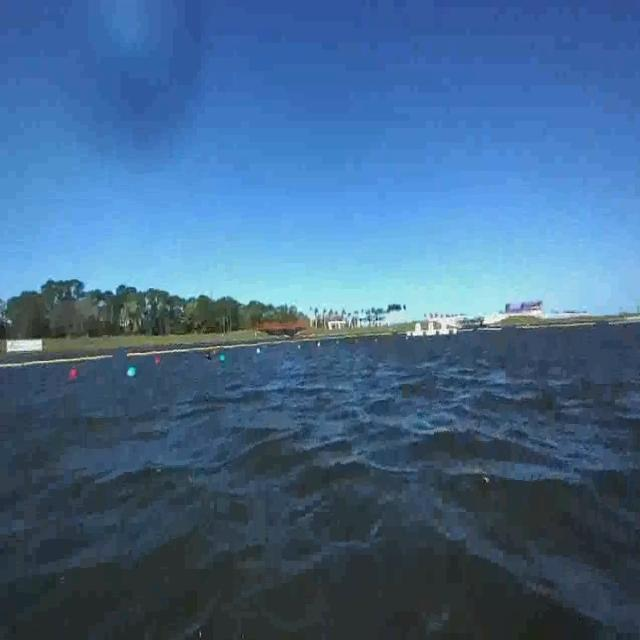green-buoy: (128, 365, 138, 377)
red-buoy: (69, 365, 78, 378)
